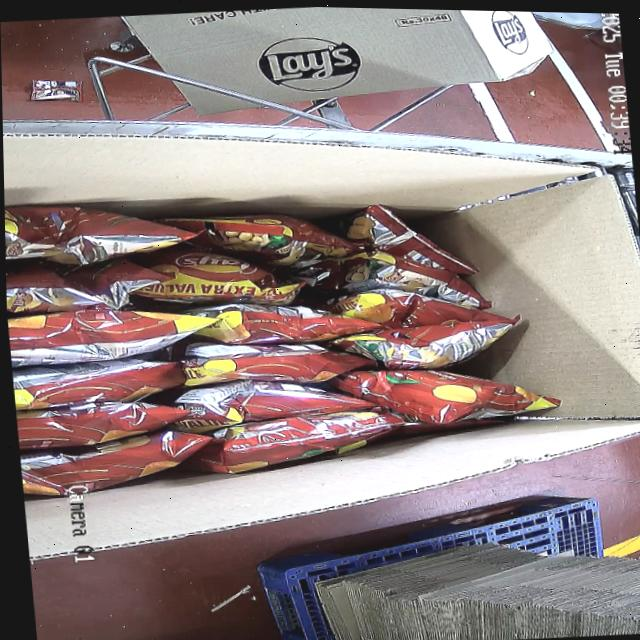MASALA: (4, 169, 566, 510)
